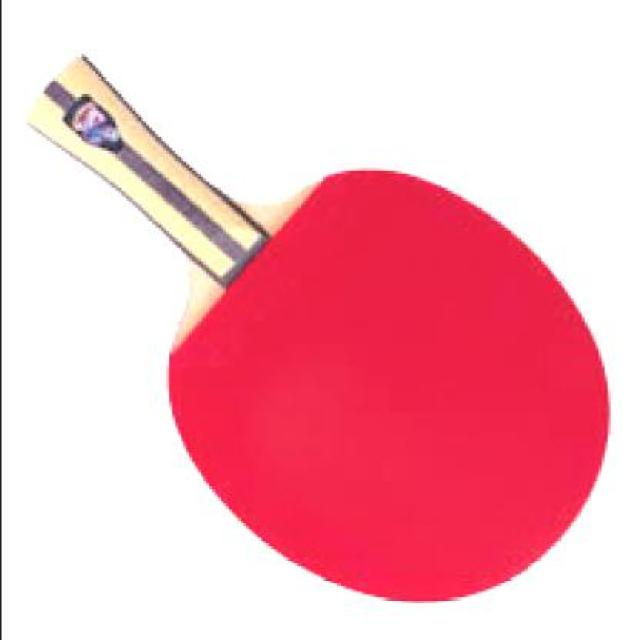table_tennis_racket: (154, 164, 608, 599)
